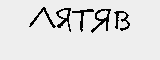В: (112, 8, 129, 32)
Л: (29, 5, 55, 29)
Т: (70, 6, 94, 32)
Я: (88, 5, 110, 32), (54, 5, 74, 32)
